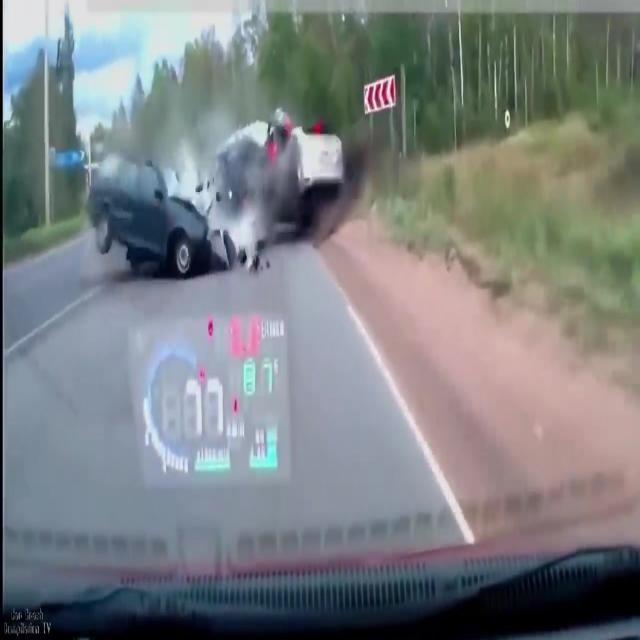accident: (81, 108, 344, 290)
